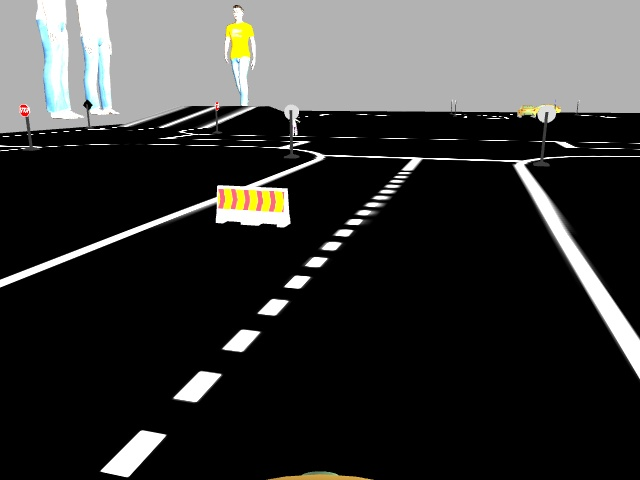ClosedRoadStand: (216, 183, 287, 224)
